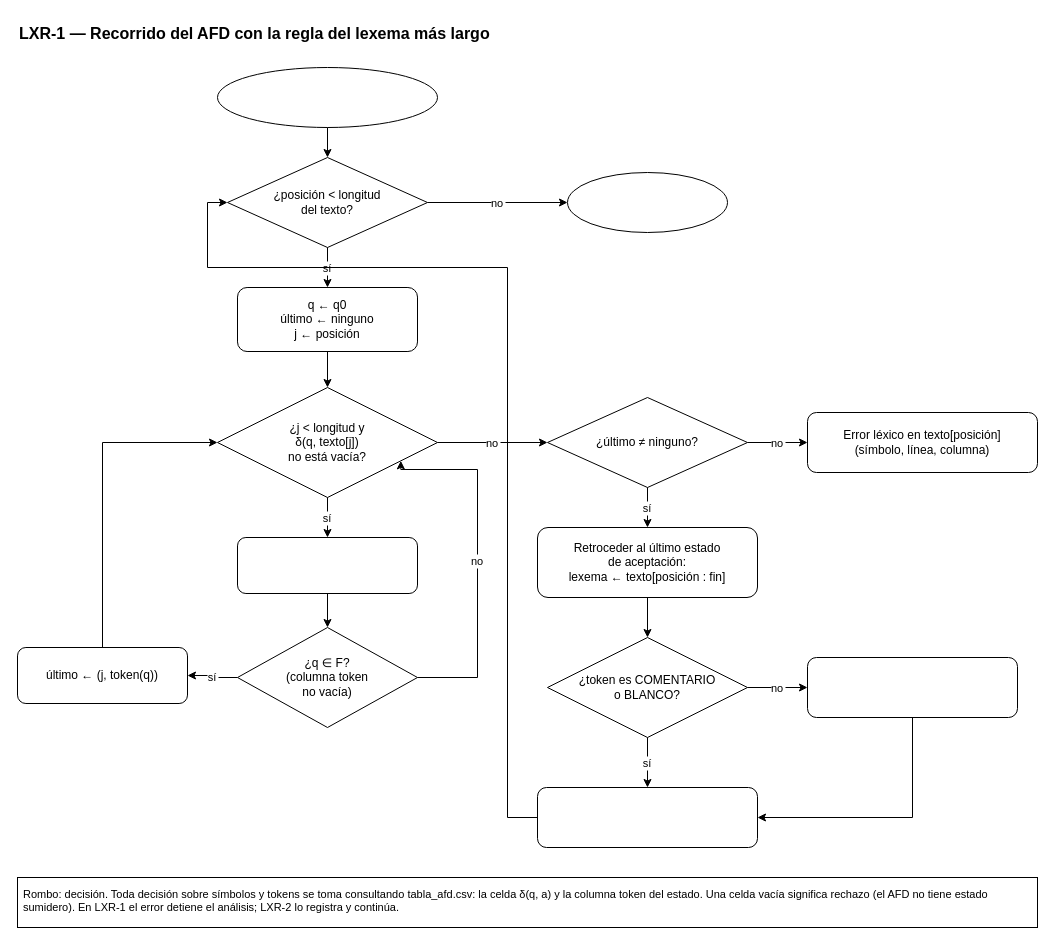
This 1055x945 diagram has some shape labels left out. The shapes that lost their labels are listed below. From the top down, each one's box as (x1, y1, x2, y2) in pixels, then its label:
(216, 66, 438, 128): Inicio posición ← 0, línea ← 1, columna ← 1
(566, 172, 728, 232): Entregar EOF y terminar
(236, 536, 418, 594): q ← δ(q, texto[j]) j ← j + 1
(806, 656, 1018, 718): Entregar Token(tipo, lexema, línea, columna)
(536, 786, 758, 848): Actualizar línea y columna posición ← fin del lexema
